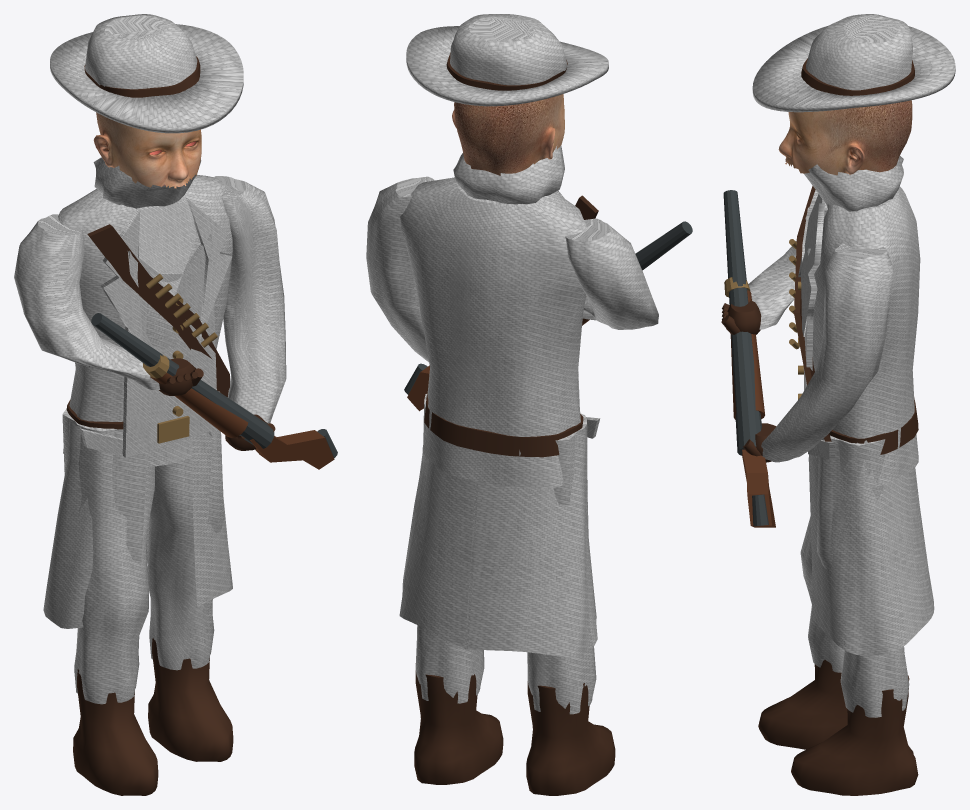
Rendered from HunterSet.glb.
The picture shows the model from 3 angles, left to right: view 1: azimuth 30°, elevation 25°; view 2: azimuth 150°, elevation 25°; view 3: azimuth 270°, elevation 25°; orthographic projection. The views are drawn at different scales.
Visible parts, largest first — view 1: LeftTrousers, RightArm, RightTrousers, LongCoat, LeftArm, HatBrim, LeftCoatTail, Waistcoat, HatCrown, LeftBoot, RightBoot, Face (+13 smaller); view 2: LongCoat, LeftCoatTail, RightCoatTail, LeftBoot, RightBoot, HatCrown, Face, LeftArm, RightArm, HatBrim, LeftTrousers, Scarf (+4 smaller); view 3: RightCoatTail, LongCoat, RightArm, RightBoot, Face, RightTrousers, HatBrim, HatCrown, LeftBoot, DarkSpine, Scarf, LeftArm (+11 smaller).
Part boxes in pixels (bbox=[...]): LeftTrousers: bbox=[62, 409, 154, 704]; RightArm: bbox=[213, 176, 286, 423]; RightTrousers: bbox=[148, 391, 224, 670]; LongCoat: bbox=[58, 175, 232, 467]; LeftArm: bbox=[14, 214, 160, 390]; HatBrim: bbox=[50, 24, 243, 133]; LeftCoatTail: bbox=[43, 419, 146, 628]; Waistcoat: bbox=[122, 233, 217, 457]; HatCrown: bbox=[85, 14, 197, 89]; LeftBoot: bbox=[73, 669, 158, 795]; RightBoot: bbox=[148, 638, 233, 761]; Face: bbox=[93, 112, 201, 188]; LongCoat: bbox=[400, 177, 586, 488]; LeftCoatTail: bbox=[464, 426, 597, 657]; RightCoatTail: bbox=[399, 453, 478, 649]; LeftBoot: bbox=[526, 681, 615, 795]; RightBoot: bbox=[414, 663, 503, 784]; HatCrown: bbox=[450, 14, 567, 85]; Face: bbox=[452, 94, 564, 175]; LeftArm: bbox=[565, 218, 658, 329]; RightArm: bbox=[366, 176, 434, 362]; HatBrim: bbox=[406, 26, 608, 106]; LeftTrousers: bbox=[527, 413, 596, 714]; Scarf: bbox=[453, 145, 564, 204]; RightCoatTail: bbox=[808, 440, 934, 655]; LongCoat: bbox=[812, 186, 920, 487]; RightArm: bbox=[761, 243, 893, 462]; RightBoot: bbox=[791, 675, 918, 795]; Face: bbox=[778, 100, 912, 175]; RightTrousers: bbox=[816, 435, 909, 717]; HatBrim: bbox=[752, 25, 955, 112]; HatCrown: bbox=[806, 14, 912, 90]; LeftBoot: bbox=[758, 660, 847, 749]; DarkSpine: bbox=[723, 190, 761, 455]; Scarf: bbox=[804, 156, 903, 211]; LeftArm: bbox=[748, 241, 796, 329].
Bounding box in the file's own units: 1.85 × 4.67 × 1.36.
Materials: 12 (7 with a texture image).
